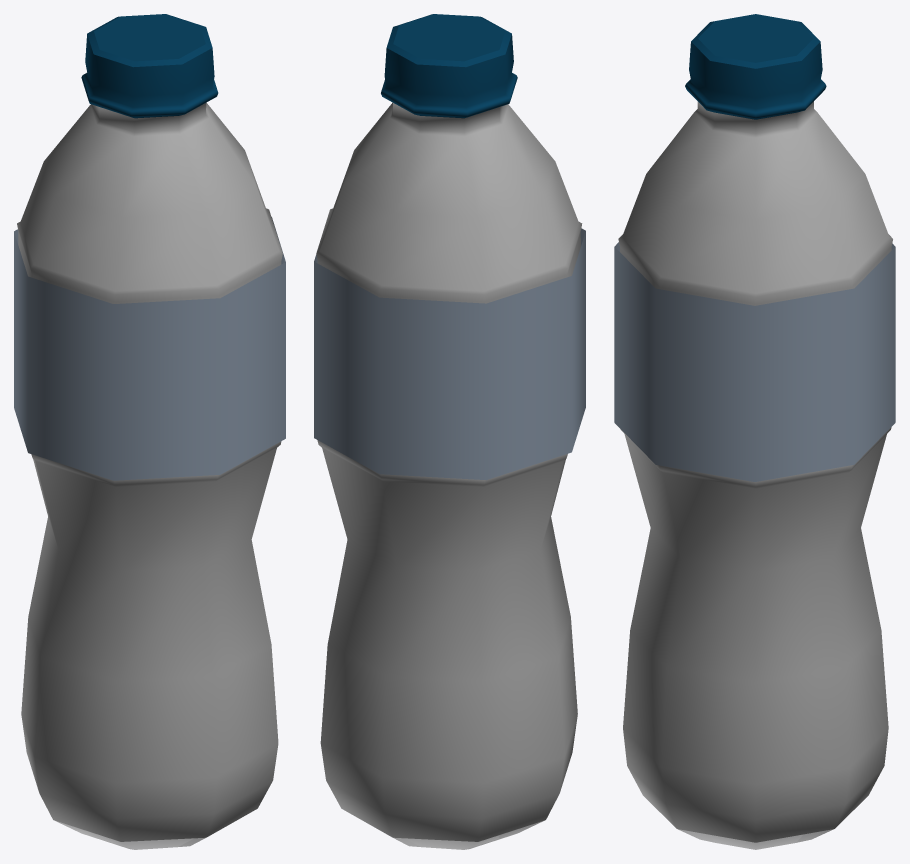
Rendered from SM_Waterbottle.fbx.
3 renders of one model, left to right at view 1: azimuth 30°, elevation 25°; view 2: azimuth 150°, elevation 25°; view 3: azimuth 270°, elevation 25°, orthographic.
Parts seen in each view (by area): view 1: SM_WaterBottle; view 2: SM_WaterBottle; view 3: SM_WaterBottle.
Part boxes in pixels (left/top/right/bottom): SM_WaterBottle: left=14, top=14, right=285, bottom=849; SM_WaterBottle: left=314, top=14, right=585, bottom=849; SM_WaterBottle: left=614, top=14, right=895, bottom=849.
Bounding box in the file's own units: 11.15 × 34.46 × 11.15.
